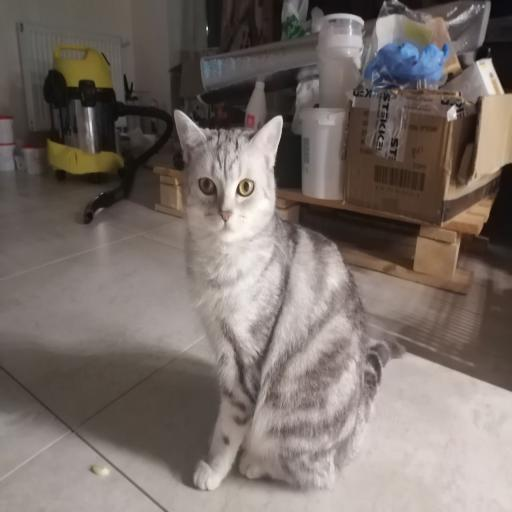cats: (174, 110, 404, 490)
